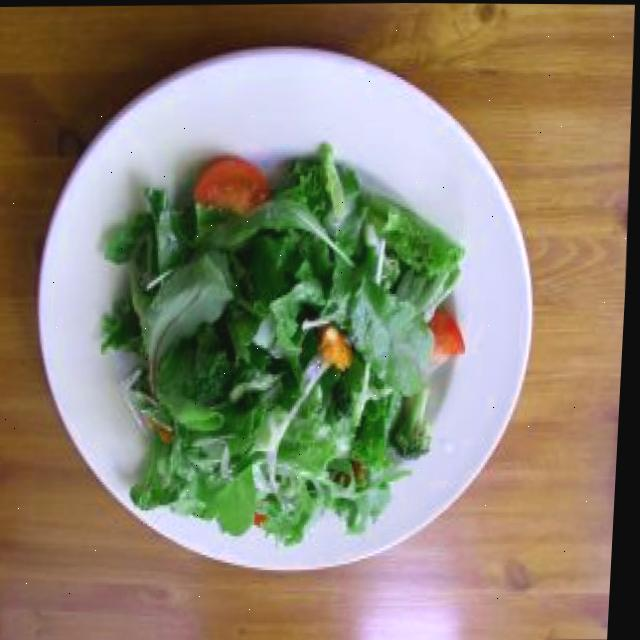蔬菜料理: (23, 38, 553, 582)
